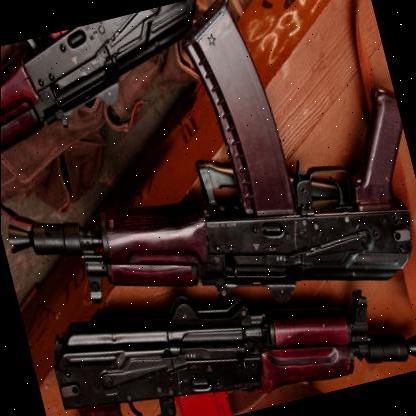rifle: (0, 22, 416, 373), (34, 207, 416, 416), (0, 0, 235, 163)
